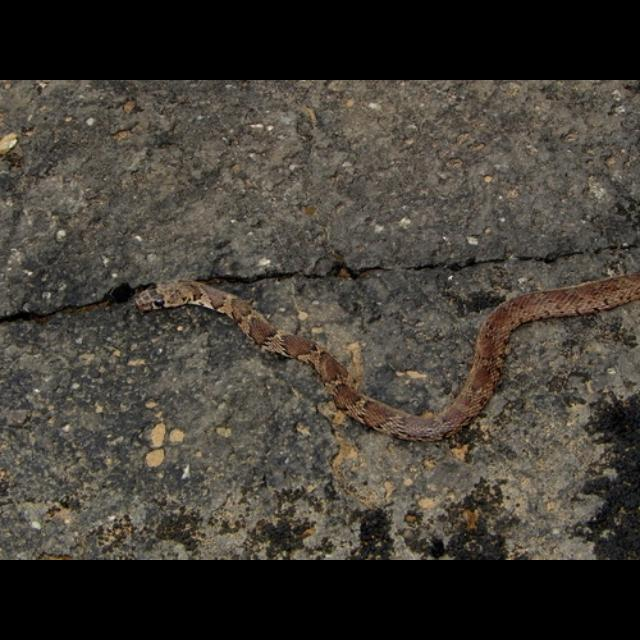snake: (132, 278, 640, 442)
